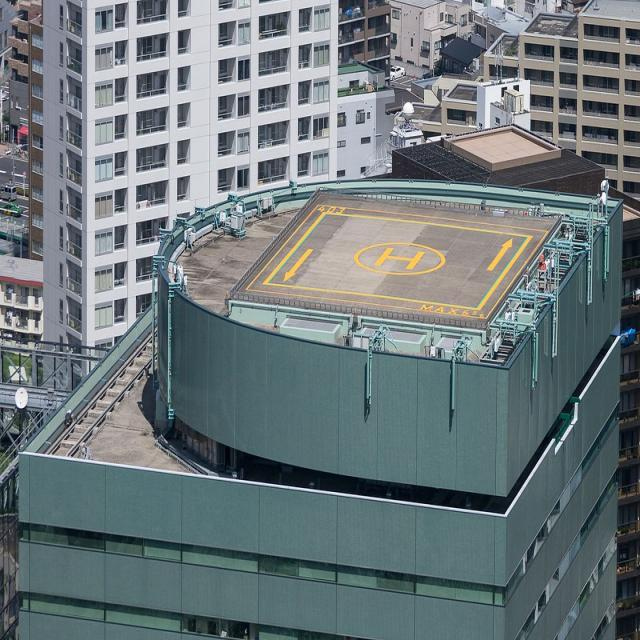helipad: (352, 238, 446, 277)
